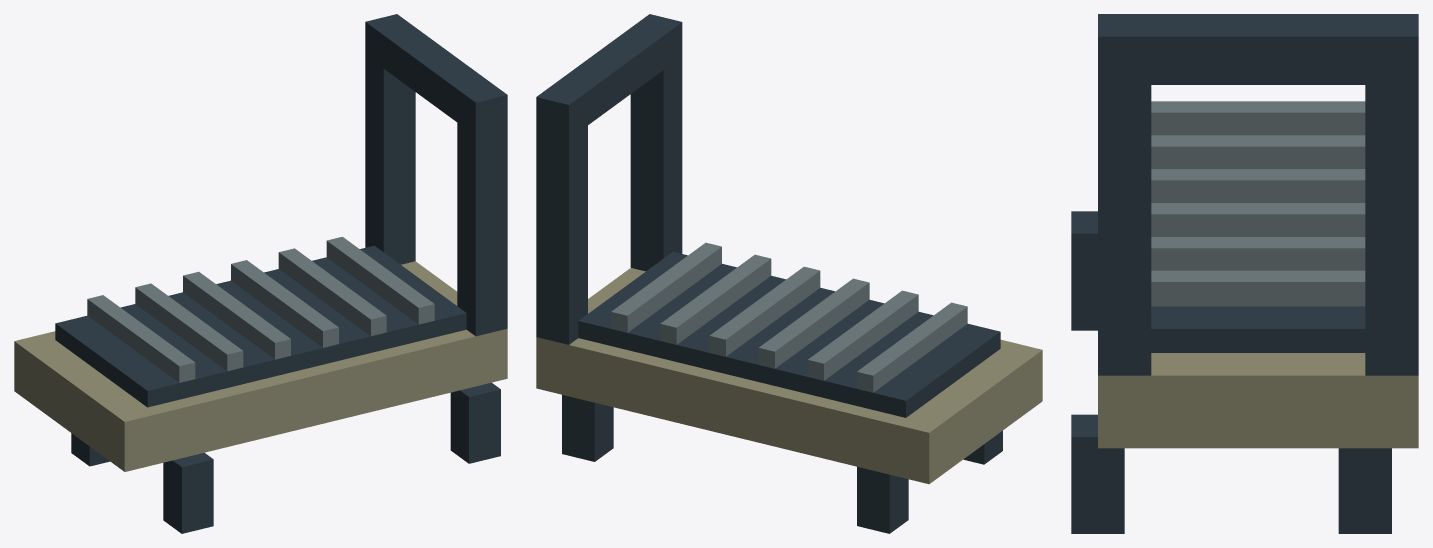
Rendered from fitness-02.glb.
3 renders of one model, left to right at view 1: azimuth 30°, elevation 25°; view 2: azimuth 150°, elevation 25°; view 3: azimuth 270°, elevation 25°, orthographic. The views are drawn at different scales.
Parts seen in each view (by area): view 1: Treadmill; view 2: Treadmill; view 3: Treadmill.
Boxes of the visible parts, <box> form: Treadmill: <box>14,14,507,533</box>; Treadmill: <box>536,14,1042,533</box>; Treadmill: <box>1071,14,1418,533</box>.
Size of the model in its own units: 1.92 by 1.68 by 1.04.
